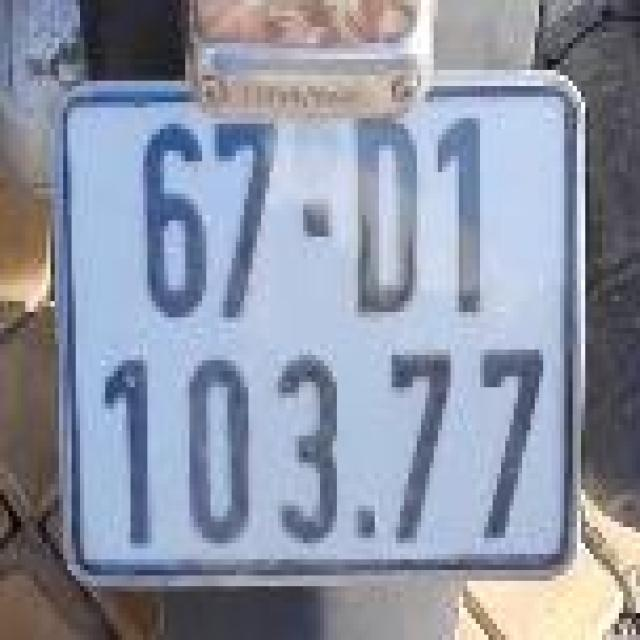0: (183, 344, 255, 549)
1: (432, 108, 508, 322), (101, 352, 160, 546)
3: (268, 328, 348, 549)
6: (124, 91, 217, 318)
7: (465, 336, 554, 546), (213, 94, 284, 331), (377, 336, 452, 551)
D: (332, 100, 430, 314)
